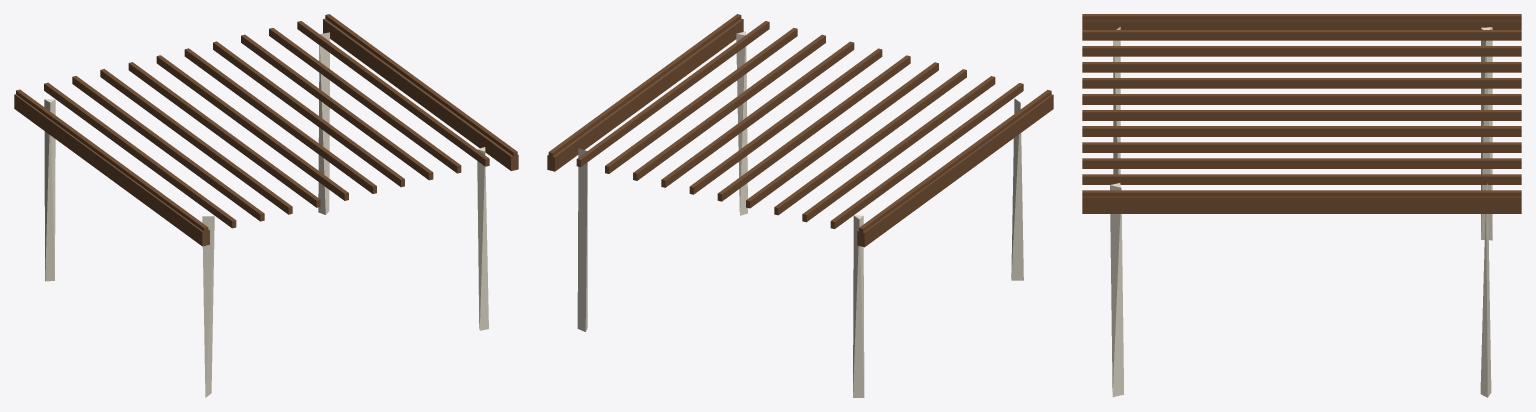
File: Pergola-lod.glb
The picture shows the model from 3 angles, left to right: view 1: azimuth 30°, elevation 25°; view 2: azimuth 150°, elevation 25°; view 3: azimuth 270°, elevation 25°; orthographic projection. The views are drawn at different scales.
Visible parts, largest first — view 1: Pergola_Walnut.001, Pergola_Carved ivory.001; view 2: Pergola_Walnut.001, Pergola_Carved ivory.001; view 3: Pergola_Walnut.001, Pergola_Carved ivory.001.
Part boxes in pixels (bbox=[...]): Pergola_Walnut.001: bbox=[14, 14, 518, 246]; Pergola_Carved ivory.001: bbox=[44, 32, 488, 397]; Pergola_Walnut.001: bbox=[547, 14, 1053, 247]; Pergola_Carved ivory.001: bbox=[577, 31, 1023, 397]; Pergola_Walnut.001: bbox=[1082, 14, 1521, 213]; Pergola_Carved ivory.001: bbox=[1110, 27, 1492, 397].
Bounding box in the file's own units: 9.22 × 5.1 × 9.5.
